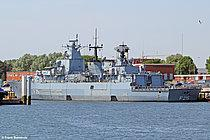MIL_Ship: (5, 32, 206, 104)
